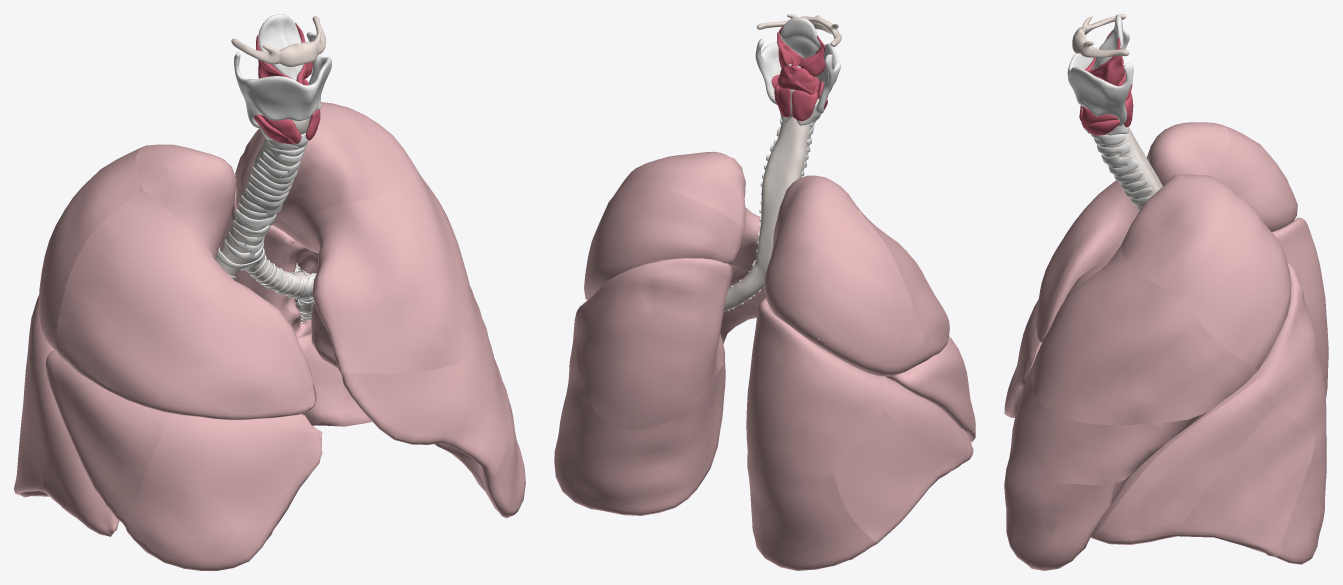
Rendered from lung.glb.
3 views of the same model, side by side, from view 1: azimuth 30°, elevation 25°; view 2: azimuth 150°, elevation 25°; view 3: azimuth 270°, elevation 25° (orthographic). The views are drawn at different scales.
Visible parts, largest first — view 1: VH_M_right_anterior_bronchopulmonary_segment, VH_M_left_anterior_bronchopulmonary_segment, VH_M_right_medial_bronchopulmonary_segment, VH_M_left_lingula_superior_bronchopulmonary_segment, VH_M_left_apical_bronchopulmonary_segment, VH_M_right_lateral_bronchopulmonary_segment, VH_M_right_apical_bronchopulmonary_segment, VH_M_right_posterior_bronchopulmonary_segment, VH_M_right_anterior_basal_bronchopulmonary_segment, VH_M_thyroid_cartilage, VH_M_tracheal_cartilage, VH_M_left_lingula_inferior_bronchopulmonary_segment (+11 smaller); view 2: VH_M_left_superior_bronchopulmonary_segment, VH_M_right_posterior_bronchopulmonary_segment, VH_M_right_superior_bronchopulmonary_segment, VH_M_left_posetrior_basal_bronchopulmonary_segment, VH_M_left_posterior_bronchopulmonary_segment, VH_M_right_posterior_basal_bronchopulmonary_segment, VH_M_right_lateral_basal_bronchopulmonary_segment, VH_M_left_apical_bronchopulmonary_segment, VH_M_right_anterior_basal_bronchopulmonary_segment, VH_M_trachea, VH_M_right_lateral_bronchopulmonary_segment, VH_M_right_anterior_bronchopulmonary_segment (+10 smaller); view 3: VH_M_left_anterior_bronchopulmonary_segment, VH_M_left_lateral_basal_bronchopulmonary_segment, VH_M_left_posterior_bronchopulmonary_segment, VH_M_left_anterior_basal_bronchopulmonary_segment, VH_M_left_lingula_superior_bronchopulmonary_segment, VH_M_left_apical_bronchopulmonary_segment, VH_M_left_lingula_inferior_bronchopulmonary_segment, VH_M_right_anterior_bronchopulmonary_segment, VH_M_left_superior_bronchopulmonary_segment, VH_M_right_posterior_bronchopulmonary_segment, VH_M_right_apical_bronchopulmonary_segment, VH_M_left_posetrior_basal_bronchopulmonary_segment (+10 smaller).
Part boxes in pixels (x1,y1,x2,y2): VH_M_right_anterior_bronchopulmonary_segment: (56, 190, 316, 420); VH_M_left_anterior_bronchopulmonary_segment: (307, 172, 487, 373); VH_M_right_medial_bronchopulmonary_segment: (125, 413, 322, 570); VH_M_left_lingula_superior_bronchopulmonary_segment: (339, 331, 508, 478); VH_M_left_apical_bronchopulmonary_segment: (240, 102, 418, 241); VH_M_right_lateral_bronchopulmonary_segment: (45, 350, 170, 526); VH_M_right_apical_bronchopulmonary_segment: (135, 144, 236, 260); VH_M_right_posterior_bronchopulmonary_segment: (38, 146, 144, 356); VH_M_right_anterior_basal_bronchopulmonary_segment: (30, 342, 119, 536); VH_M_thyroid_cartilage: (234, 31, 331, 128); VH_M_tracheal_cartilage: (224, 139, 307, 259); VH_M_left_lingula_inferior_bronchopulmonary_segment: (311, 319, 525, 518); VH_M_left_superior_bronchopulmonary_segment: (576, 258, 732, 430); VH_M_right_posterior_bronchopulmonary_segment: (764, 207, 926, 376); VH_M_right_superior_bronchopulmonary_segment: (746, 298, 888, 485); VH_M_left_posetrior_basal_bronchopulmonary_segment: (554, 360, 725, 515); VH_M_left_posterior_bronchopulmonary_segment: (586, 174, 744, 296); VH_M_right_posterior_basal_bronchopulmonary_segment: (747, 452, 876, 570); VH_M_right_lateral_basal_bronchopulmonary_segment: (834, 410, 937, 543); VH_M_left_apical_bronchopulmonary_segment: (625, 151, 745, 229); VH_M_right_anterior_basal_bronchopulmonary_segment: (883, 376, 973, 479); VH_M_trachea: (755, 117, 813, 280); VH_M_right_lateral_bronchopulmonary_segment: (885, 336, 974, 433); VH_M_right_anterior_bronchopulmonary_segment: (860, 211, 949, 360); VH_M_left_anterior_bronchopulmonary_segment: (1031, 244, 1258, 424); VH_M_left_lateral_basal_bronchopulmonary_segment: (1177, 405, 1316, 557); VH_M_left_posterior_bronchopulmonary_segment: (1183, 201, 1291, 369); VH_M_left_anterior_basal_bronchopulmonary_segment: (1090, 378, 1275, 544); VH_M_left_lingula_superior_bronchopulmonary_segment: (1004, 365, 1252, 500); VH_M_left_apical_bronchopulmonary_segment: (1122, 174, 1246, 299); VH_M_left_lingula_inferior_bronchopulmonary_segment: (1005, 473, 1132, 570); VH_M_right_anterior_bronchopulmonary_segment: (1035, 180, 1138, 342); VH_M_left_superior_bronchopulmonary_segment: (1255, 261, 1326, 439); VH_M_right_posterior_bronchopulmonary_segment: (1212, 125, 1297, 231); VH_M_right_apical_bronchopulmonary_segment: (1137, 122, 1229, 211); VH_M_left_posetrior_basal_bronchopulmonary_segment: (1276, 435, 1326, 564).
Size of the model in its own units: 0.2594 by 0.3146 by 0.1897.
Materials: 2 (2 with a texture image).
